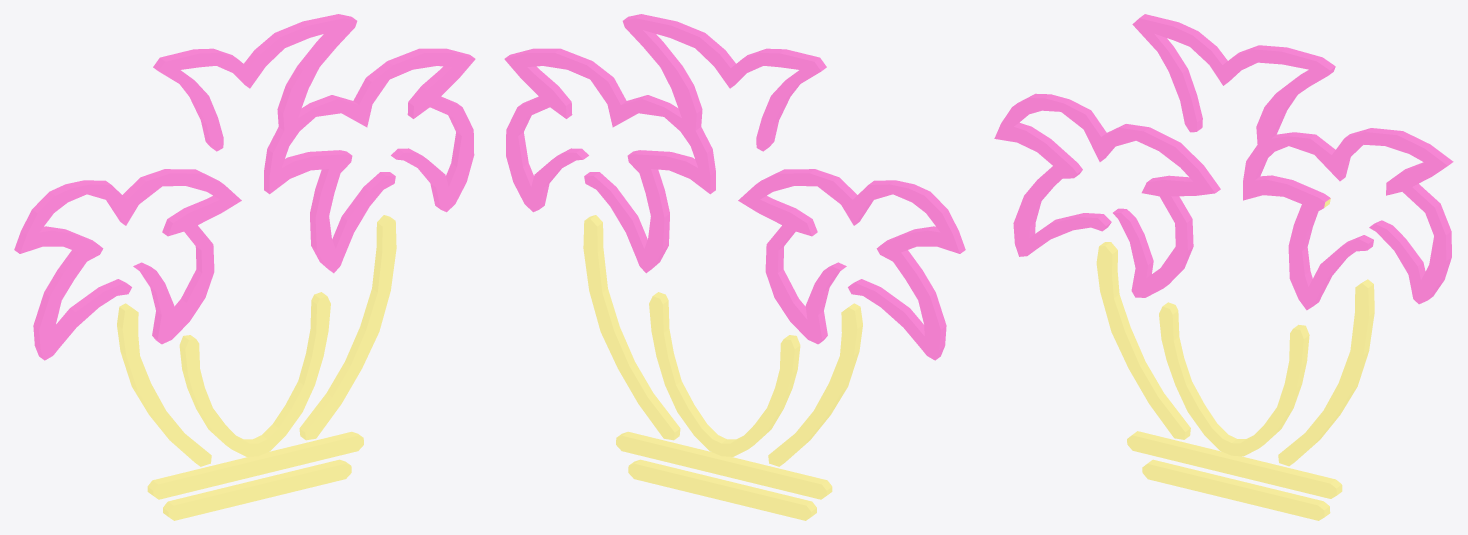
File: neon-sign-palm-trees.glb
3 renders of one model, left to right at view 1: azimuth 30°, elevation 25°; view 2: azimuth 150°, elevation 25°; view 3: azimuth 330°, elevation 25°, orthographic.
Parts seen in each view (by area): view 1: sign; view 2: sign; view 3: sign.
Boxes of the visible parts, x1,y1,x2,y2 form: sign: [14, 14, 475, 520]; sign: [504, 14, 965, 520]; sign: [994, 14, 1453, 520].
Size of what is drawn, in the model's own units: 0.9844 by 0.9544 by 0.0215.
